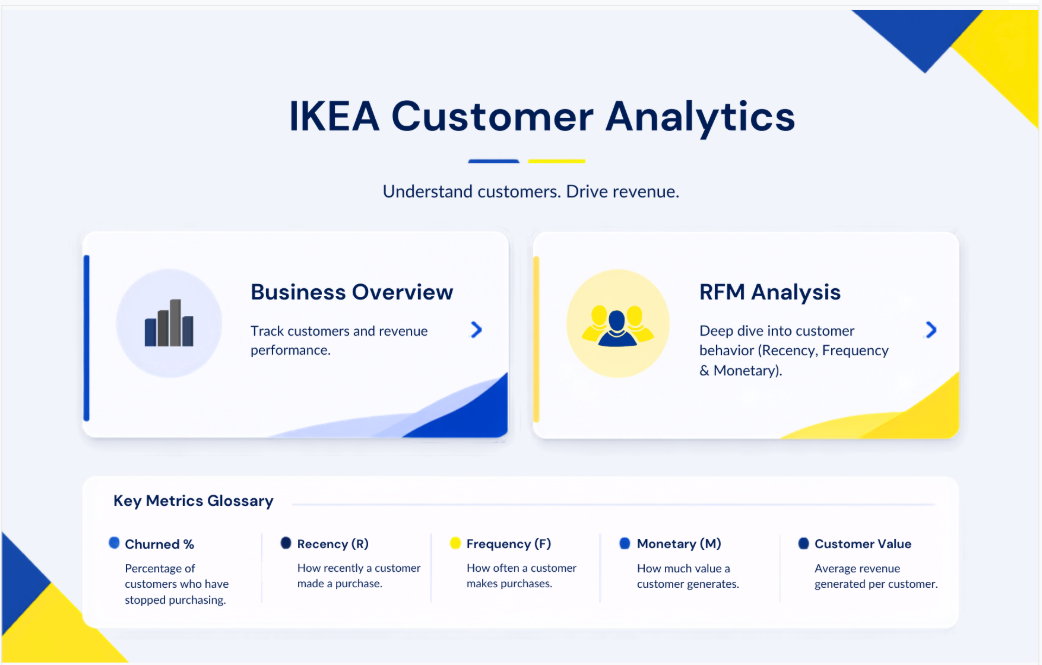

The dashboard page shown, as its layout file describes it:
{"tool":"powerbi","page":{"name":"Home","canvas":[1920,1080],"ordinal":0},"visuals":[{"type":"image","box":[233.4,36.2,1503.8,959.1],"z":0}]}

Visuals, with their boxes on the page's 1920x1080 design canvas (x1, y1, x2, y2). These are canvas units, not pixel positions in the 1042x665 screenshot, which may show the page scaled, cropped or inside an application window:
image: (233,36,1737,995)
